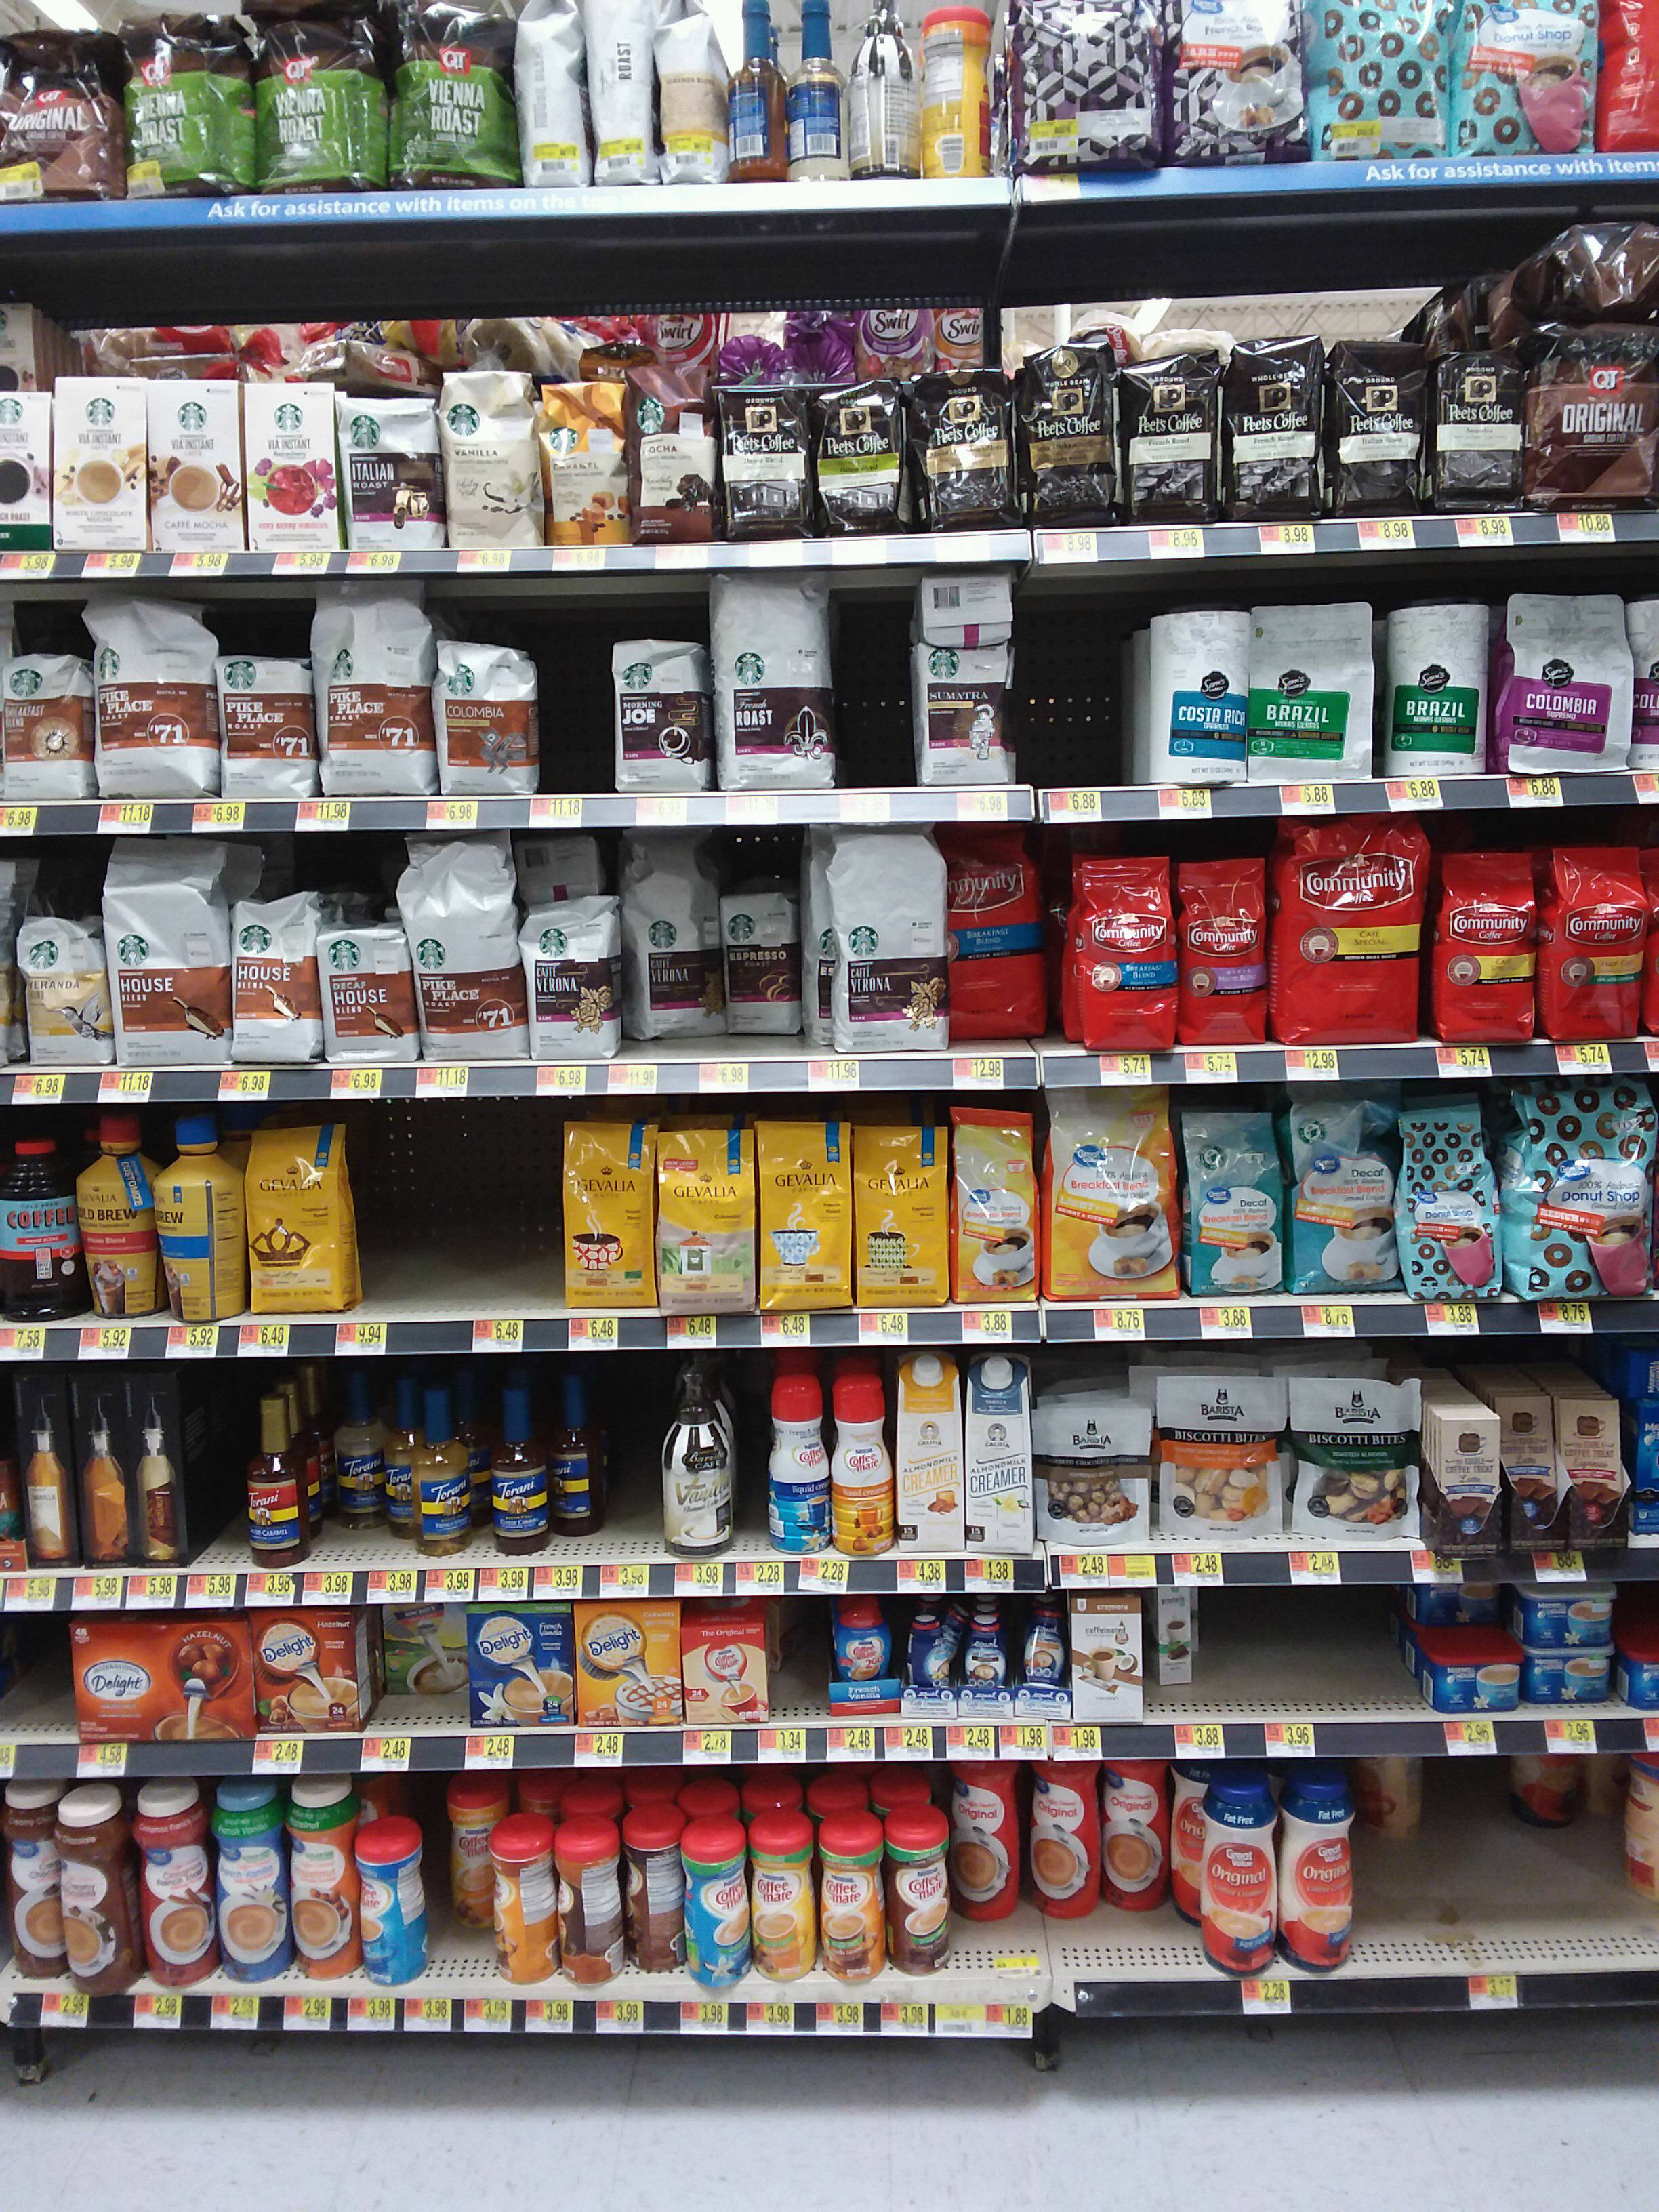Misplacement: (948, 862, 1066, 1050)
Out-of-stock: (1018, 624, 1134, 780)
